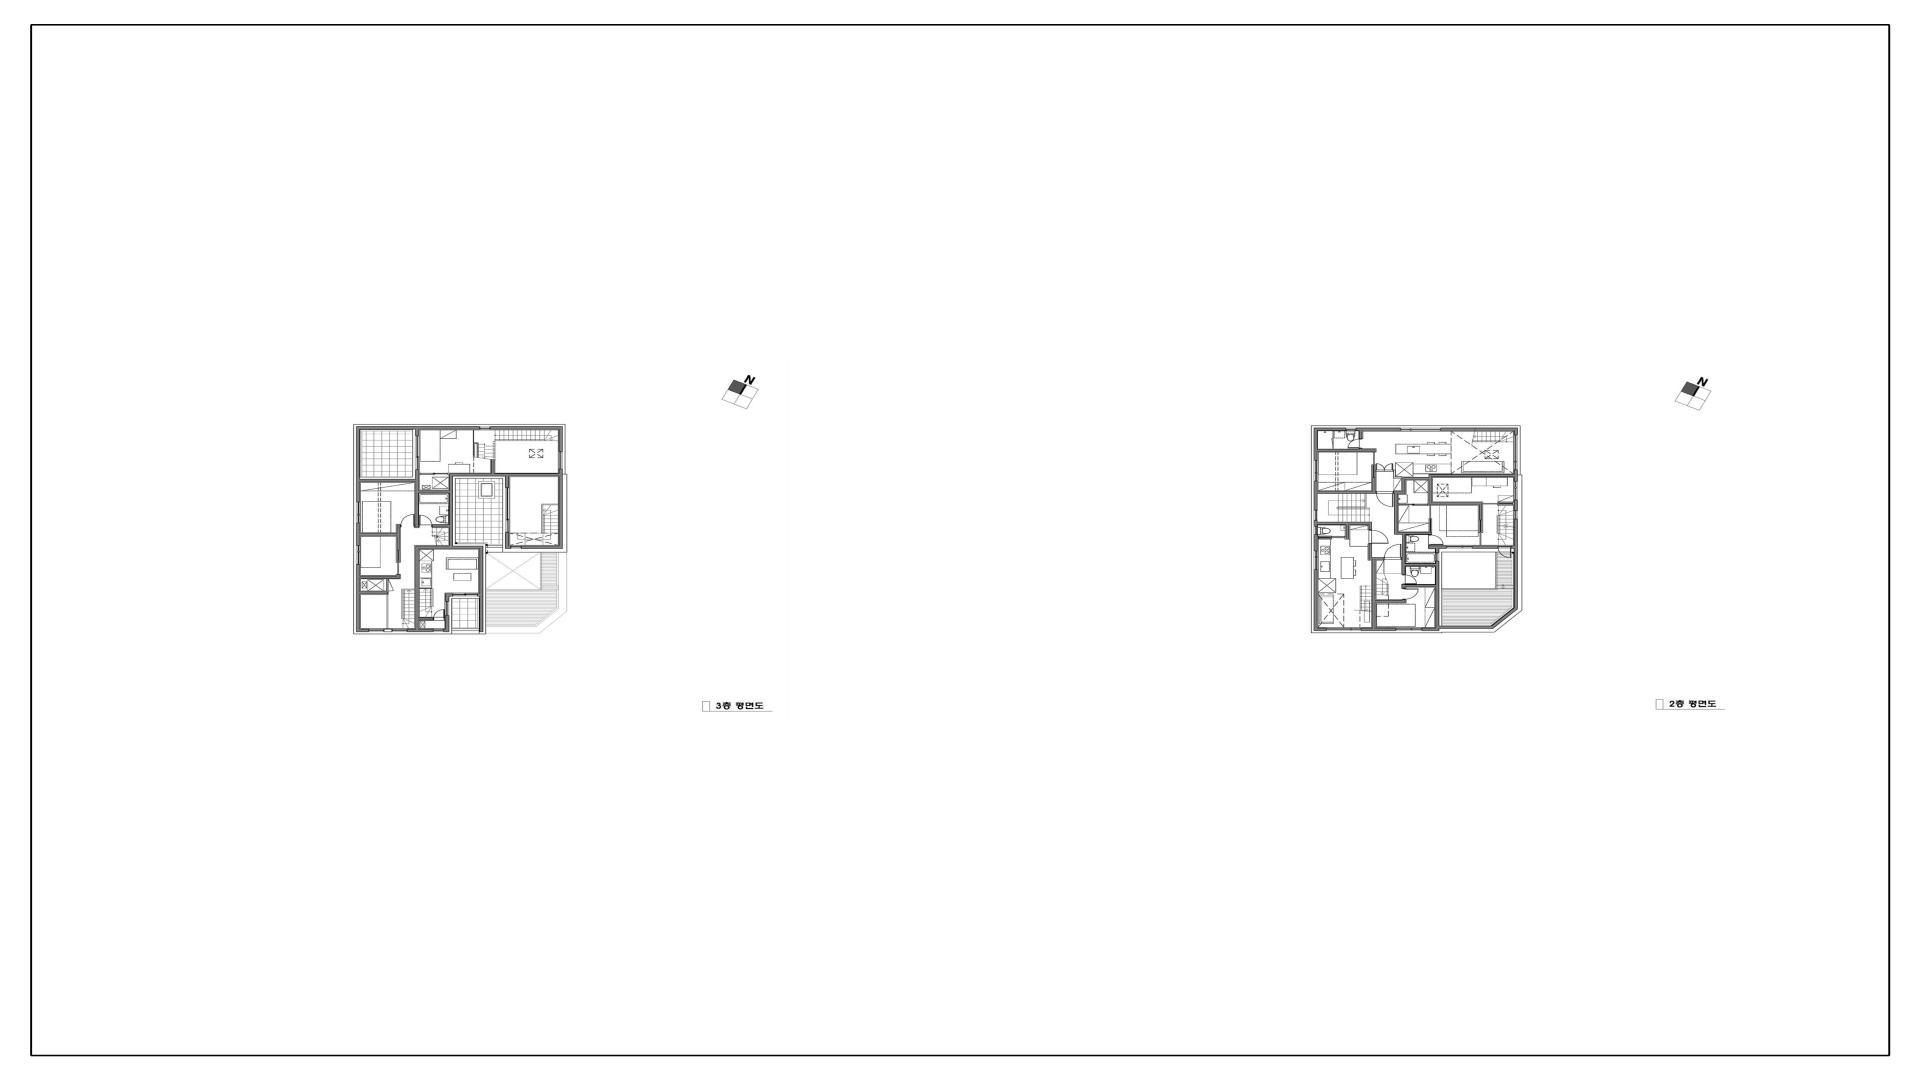door: (1375, 492, 1394, 508), (1369, 530, 1389, 545), (1383, 545, 1402, 559), (400, 514, 415, 527), (1428, 534, 1444, 546), (1403, 588, 1419, 600), (419, 514, 433, 527), (1375, 463, 1394, 472), (433, 609, 446, 621), (1348, 439, 1362, 448), (1403, 575, 1416, 584), (1317, 535, 1345, 539), (397, 550, 401, 575), (386, 579, 394, 591), (1429, 505, 1432, 531), (1373, 452, 1375, 477), (1332, 431, 1335, 450), (1398, 504, 1428, 505), (419, 473, 448, 475)
wall: (1491, 608, 1518, 629), (356, 426, 480, 430), (1513, 518, 1518, 609), (479, 549, 484, 632), (415, 546, 419, 629), (559, 469, 563, 546), (450, 473, 454, 549), (1441, 427, 1514, 431), (356, 430, 360, 502), (491, 426, 559, 430), (356, 564, 360, 629), (1313, 570, 1317, 628), (1317, 448, 1375, 452), (415, 469, 419, 527), (1432, 475, 1515, 477), (1373, 559, 1375, 628), (1357, 427, 1400, 431), (1436, 562, 1439, 626), (1402, 534, 1406, 574), (360, 575, 400, 579), (1317, 491, 1375, 493), (1436, 626, 1493, 629), (452, 473, 505, 476), (1317, 522, 1369, 525), (509, 473, 559, 476), (1429, 502, 1480, 505), (1403, 584, 1436, 588), (1317, 427, 1346, 431), (1313, 481, 1317, 510), (522, 546, 563, 549), (1395, 493, 1398, 533), (397, 525, 401, 550), (559, 426, 563, 451), (360, 533, 397, 535), (1315, 427, 1317, 460), (1362, 628, 1395, 630), (356, 524, 360, 545), (1375, 600, 1406, 603), (1406, 563, 1436, 566), (419, 491, 450, 493), (452, 546, 483, 549), (419, 546, 450, 549), (1429, 475, 1432, 502), (360, 480, 415, 481), (407, 629, 433, 632), (1473, 546, 1498, 549), (1313, 535, 1317, 551), (1406, 477, 1429, 480), (505, 473, 509, 488), (491, 460, 495, 473), (505, 533, 509, 546), (446, 593, 452, 601), (446, 616, 450, 629), (1395, 533, 1432, 534), (1514, 469, 1518, 481), (1423, 628, 1440, 630), (433, 525, 450, 527), (1480, 502, 1482, 520), (1429, 546, 1447, 549), (1514, 500, 1518, 510), (401, 588, 402, 618), (1373, 477, 1375, 492), (1403, 477, 1406, 492), (475, 443, 477, 458), (418, 617, 433, 620), (360, 592, 388, 593), (1346, 525, 1349, 538), (1369, 545, 1371, 558), (356, 629, 369, 632), (1313, 628, 1325, 630), (433, 588, 434, 607), (1313, 521, 1317, 526), (1515, 427, 1518, 435), (1360, 431, 1362, 439), (1369, 522, 1371, 530), (1394, 476, 1402, 479), (384, 629, 392, 632), (1369, 558, 1383, 559), (1394, 469, 1396, 476), (415, 429, 418, 435), (1394, 492, 1406, 493), (402, 588, 414, 589), (505, 546, 510, 549), (444, 629, 450, 632), (1436, 549, 1439, 553), (419, 588, 433, 588)
window: (505, 488, 509, 533), (1400, 427, 1441, 431), (1514, 435, 1518, 469), (415, 435, 419, 469), (1313, 460, 1319, 481), (1445, 545, 1473, 549), (1325, 628, 1362, 630), (356, 502, 360, 524), (356, 545, 360, 564), (444, 601, 450, 616), (1514, 481, 1518, 500), (559, 451, 563, 469), (1313, 551, 1317, 570), (1395, 628, 1422, 630), (452, 593, 477, 596), (1346, 427, 1357, 431), (480, 426, 491, 430), (392, 629, 407, 632), (369, 629, 385, 632), (1514, 510, 1518, 520), (1436, 553, 1440, 562), (1313, 526, 1317, 534), (433, 629, 444, 632), (1315, 510, 1317, 521), (512, 546, 522, 549)
